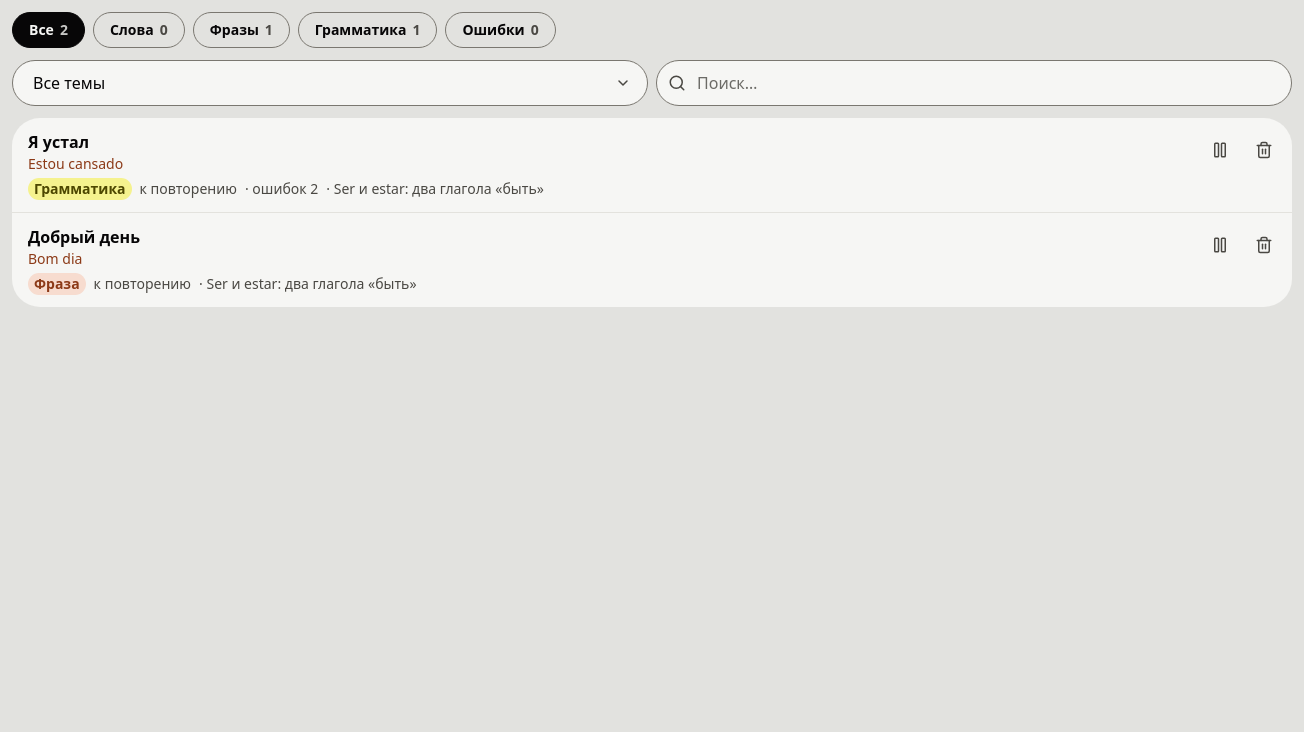
Test: CardList · actions › deleting the last row moves focus to the previous one; the only row → the search box
This screenshot has width=1304, height=732.
Click the button named "Удалить «Добрый день»" at (1264, 245), box [1242,223,1286,267]
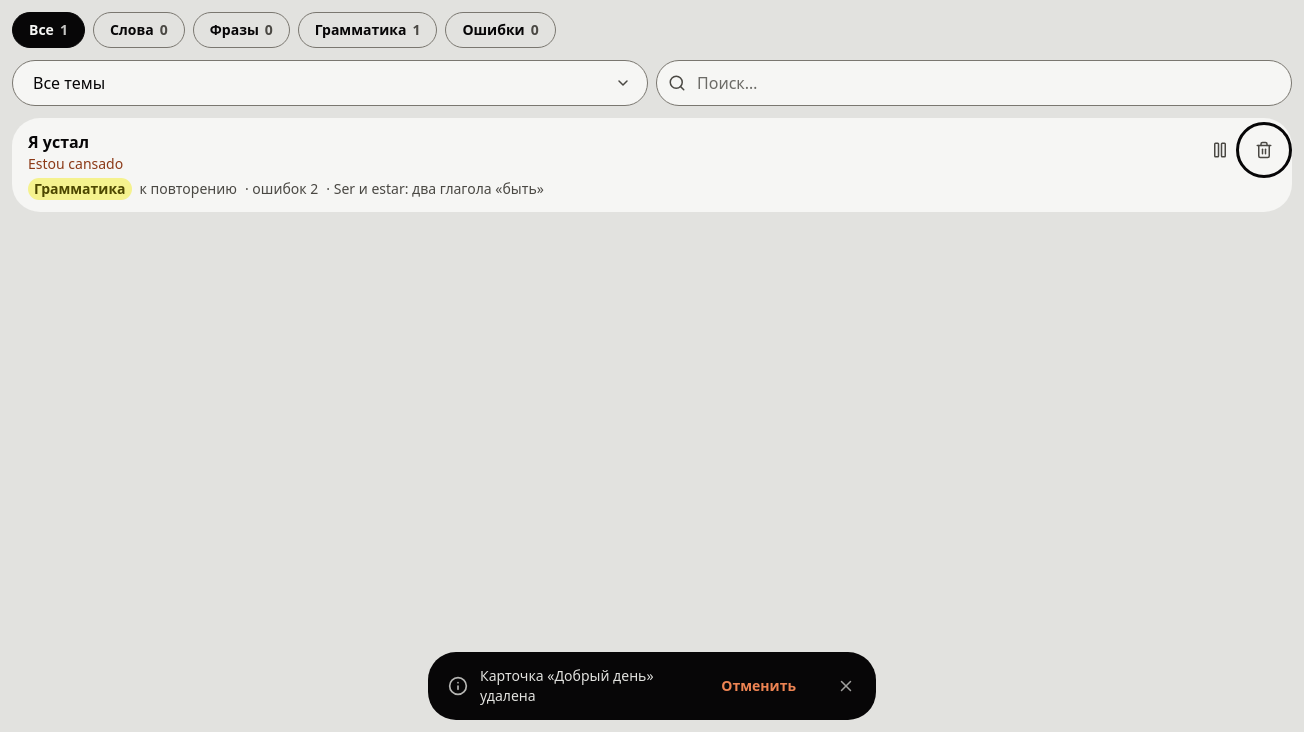
Click the button named "Удалить «Я устал»" at (1264, 150), box [1242,128,1286,172]
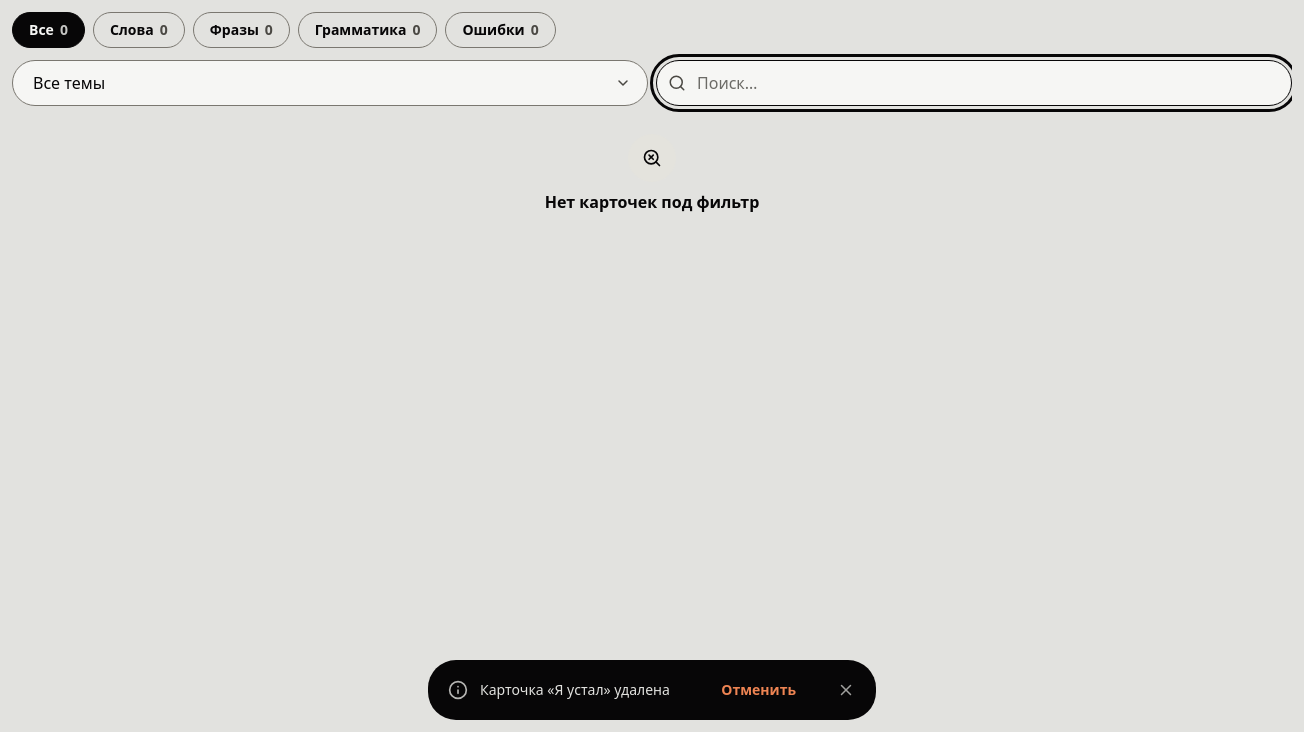
expect the text "Нет карточек под фильтр" is shown: met, box [545,190,759,214]
